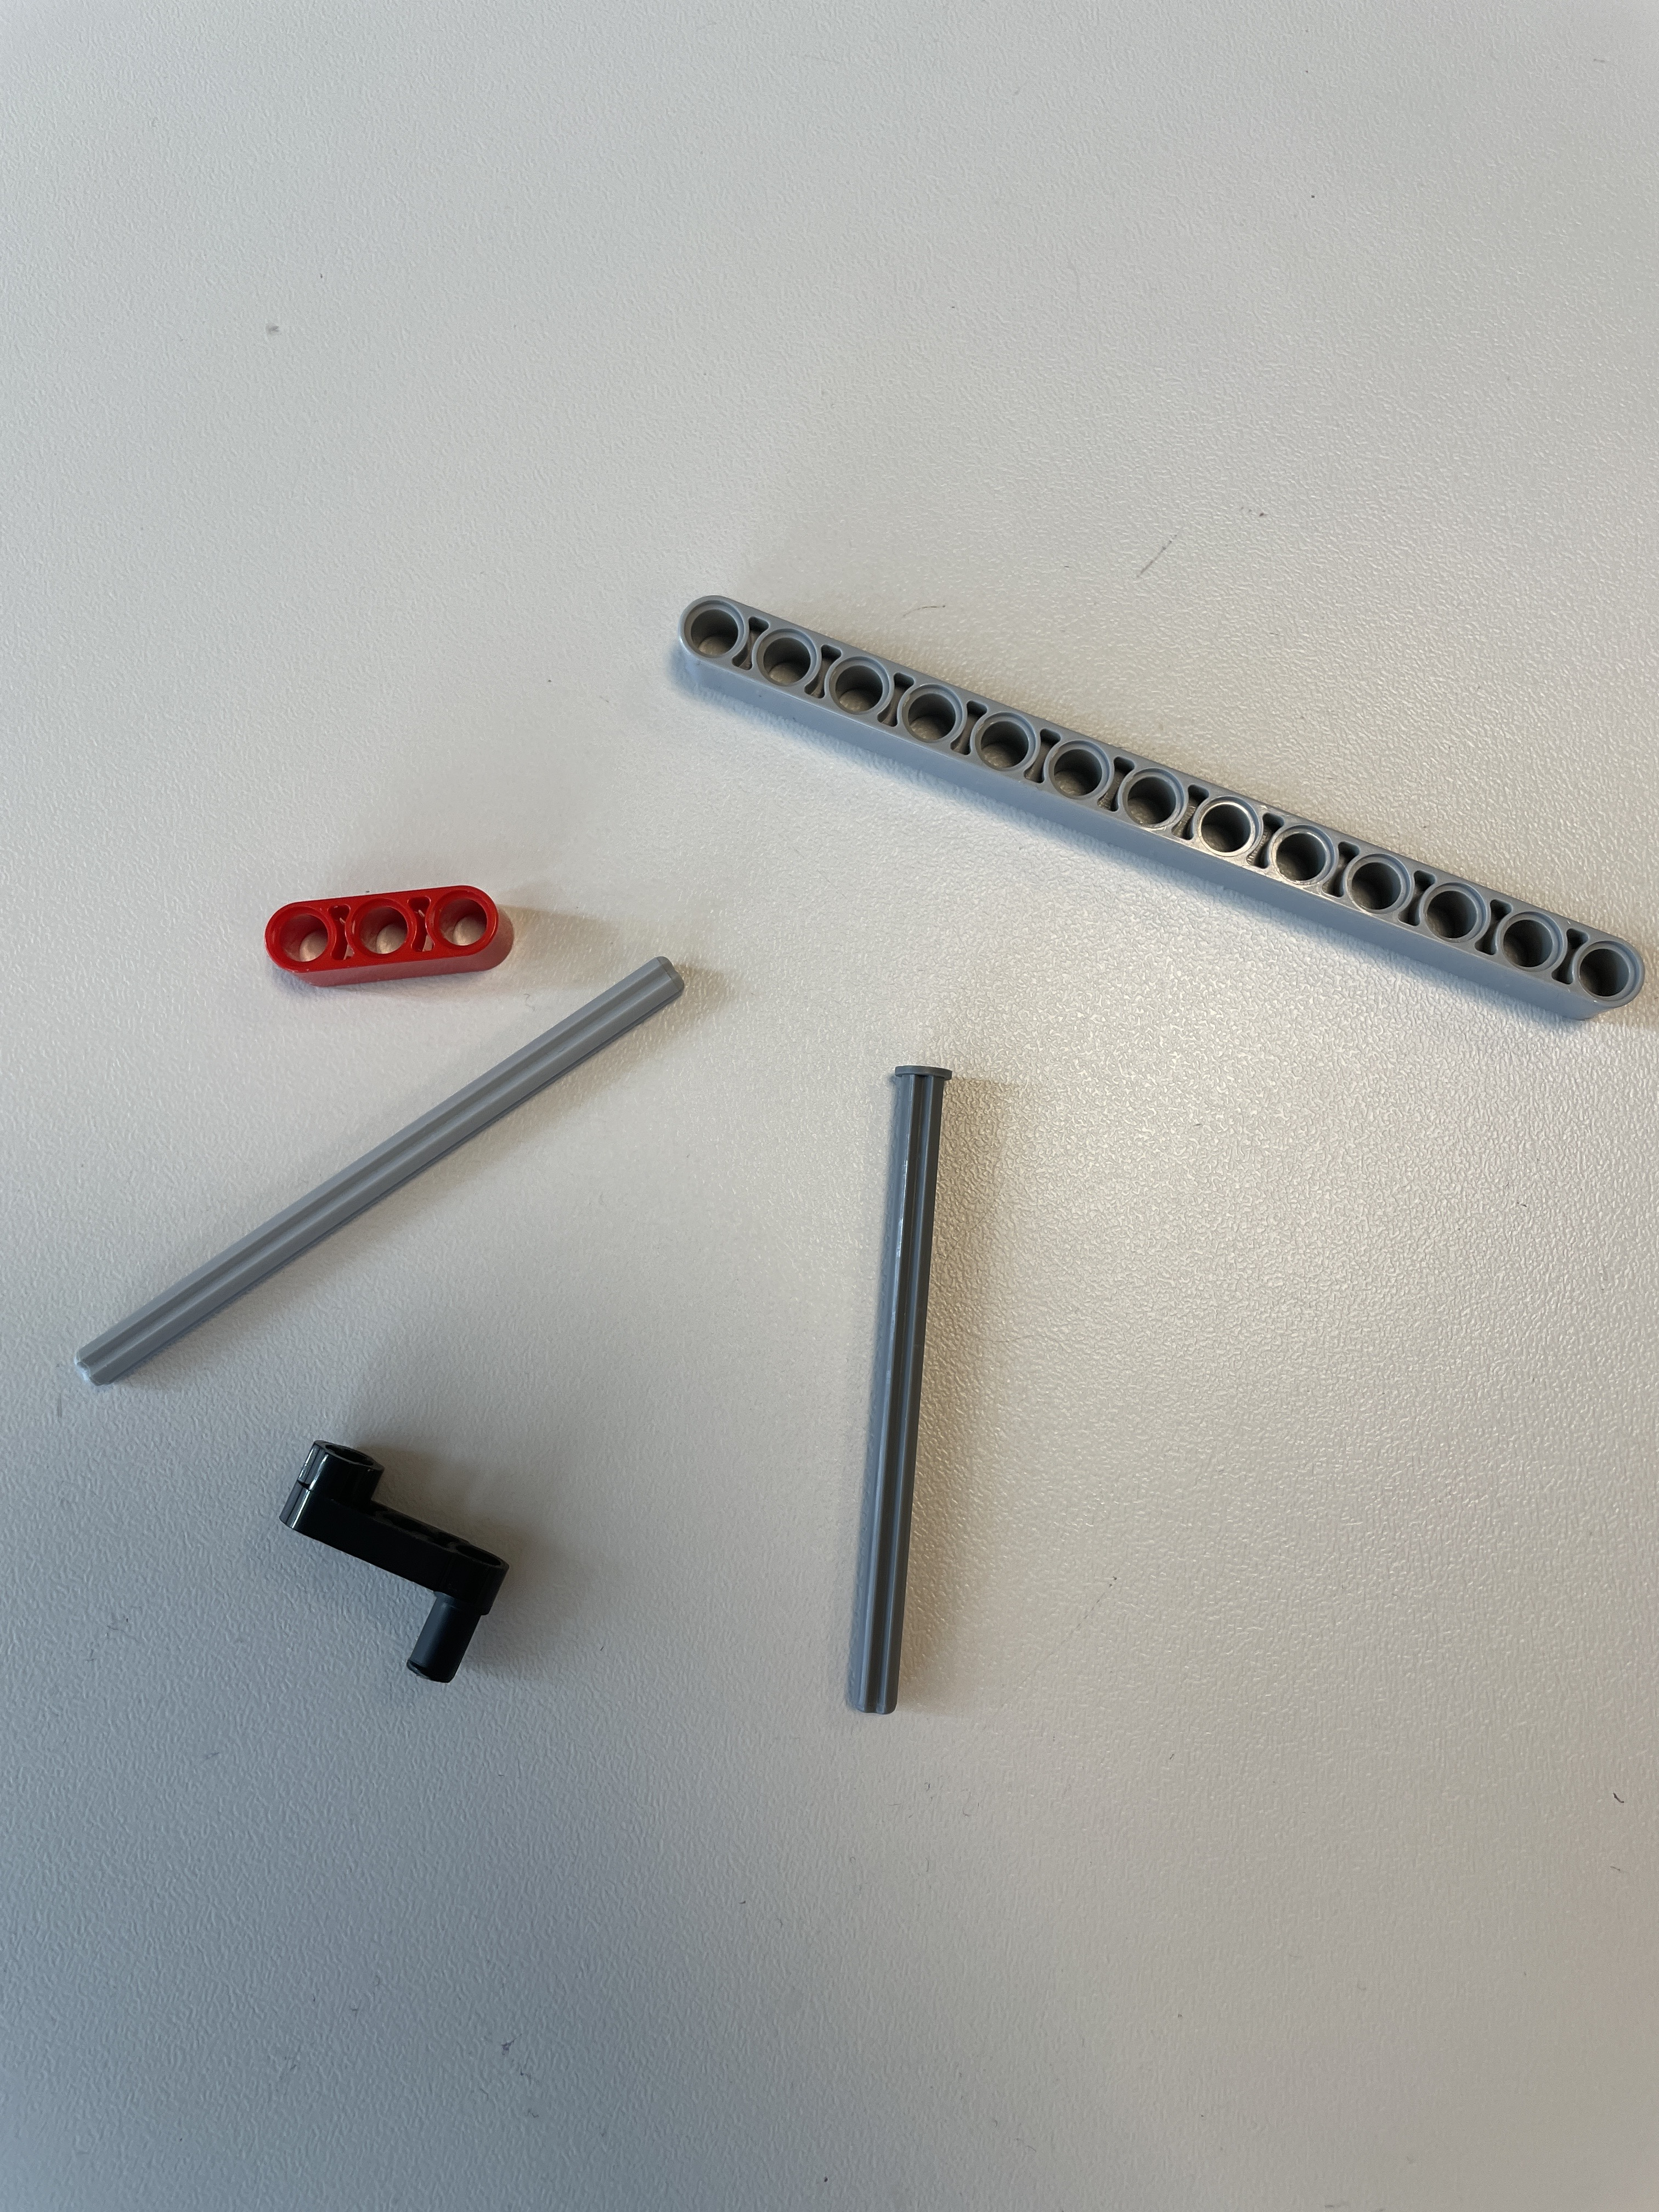13gat: (666, 583, 1650, 1033)
3gat: (258, 881, 521, 998)
plusstaaf: (66, 953, 695, 1395)
plusstaafdicht: (842, 1057, 955, 1731)
verbindstukzwart: (268, 1433, 521, 1698)
